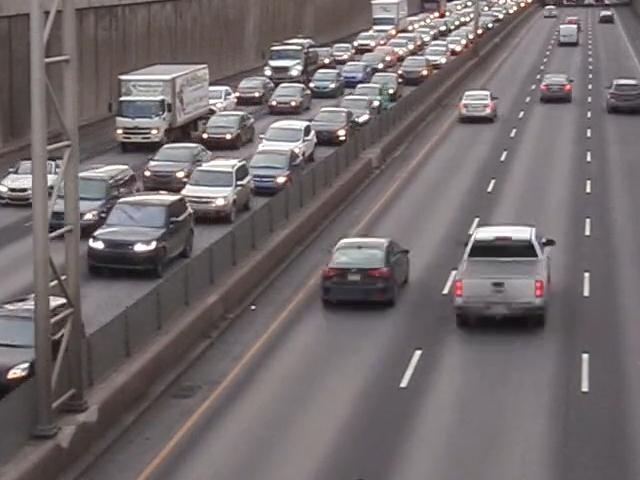car: (0, 291, 77, 408), (89, 194, 196, 278), (317, 230, 418, 317), (47, 164, 136, 234), (184, 158, 253, 229), (0, 149, 75, 207), (143, 142, 211, 191), (250, 146, 301, 195), (260, 121, 316, 162), (202, 110, 255, 152), (456, 85, 503, 128), (127, 287, 183, 314), (602, 78, 640, 117), (539, 71, 574, 107)
pickup-truck: (450, 219, 562, 332)
truck: (112, 64, 206, 150)
